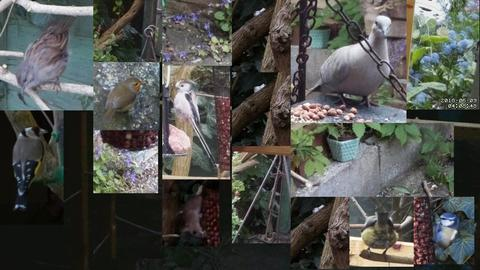blue tit: (361, 212, 399, 262), (428, 212, 459, 257)
collared dove: (306, 15, 392, 108)
dunnock: (15, 15, 78, 95)
goldfinch: (12, 125, 49, 211)
long tailed tit: (170, 81, 215, 164)
mouse: (181, 194, 204, 238)
robin: (102, 77, 145, 123)
